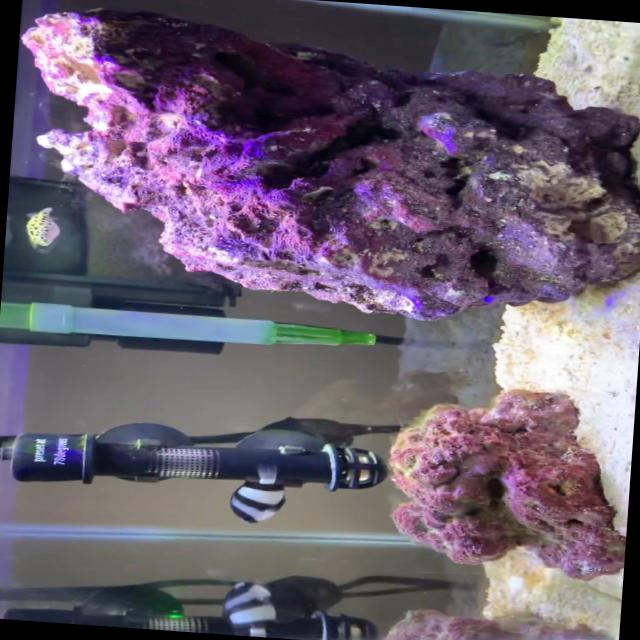ThreeStripedDamselfish: (229, 462, 287, 523)
